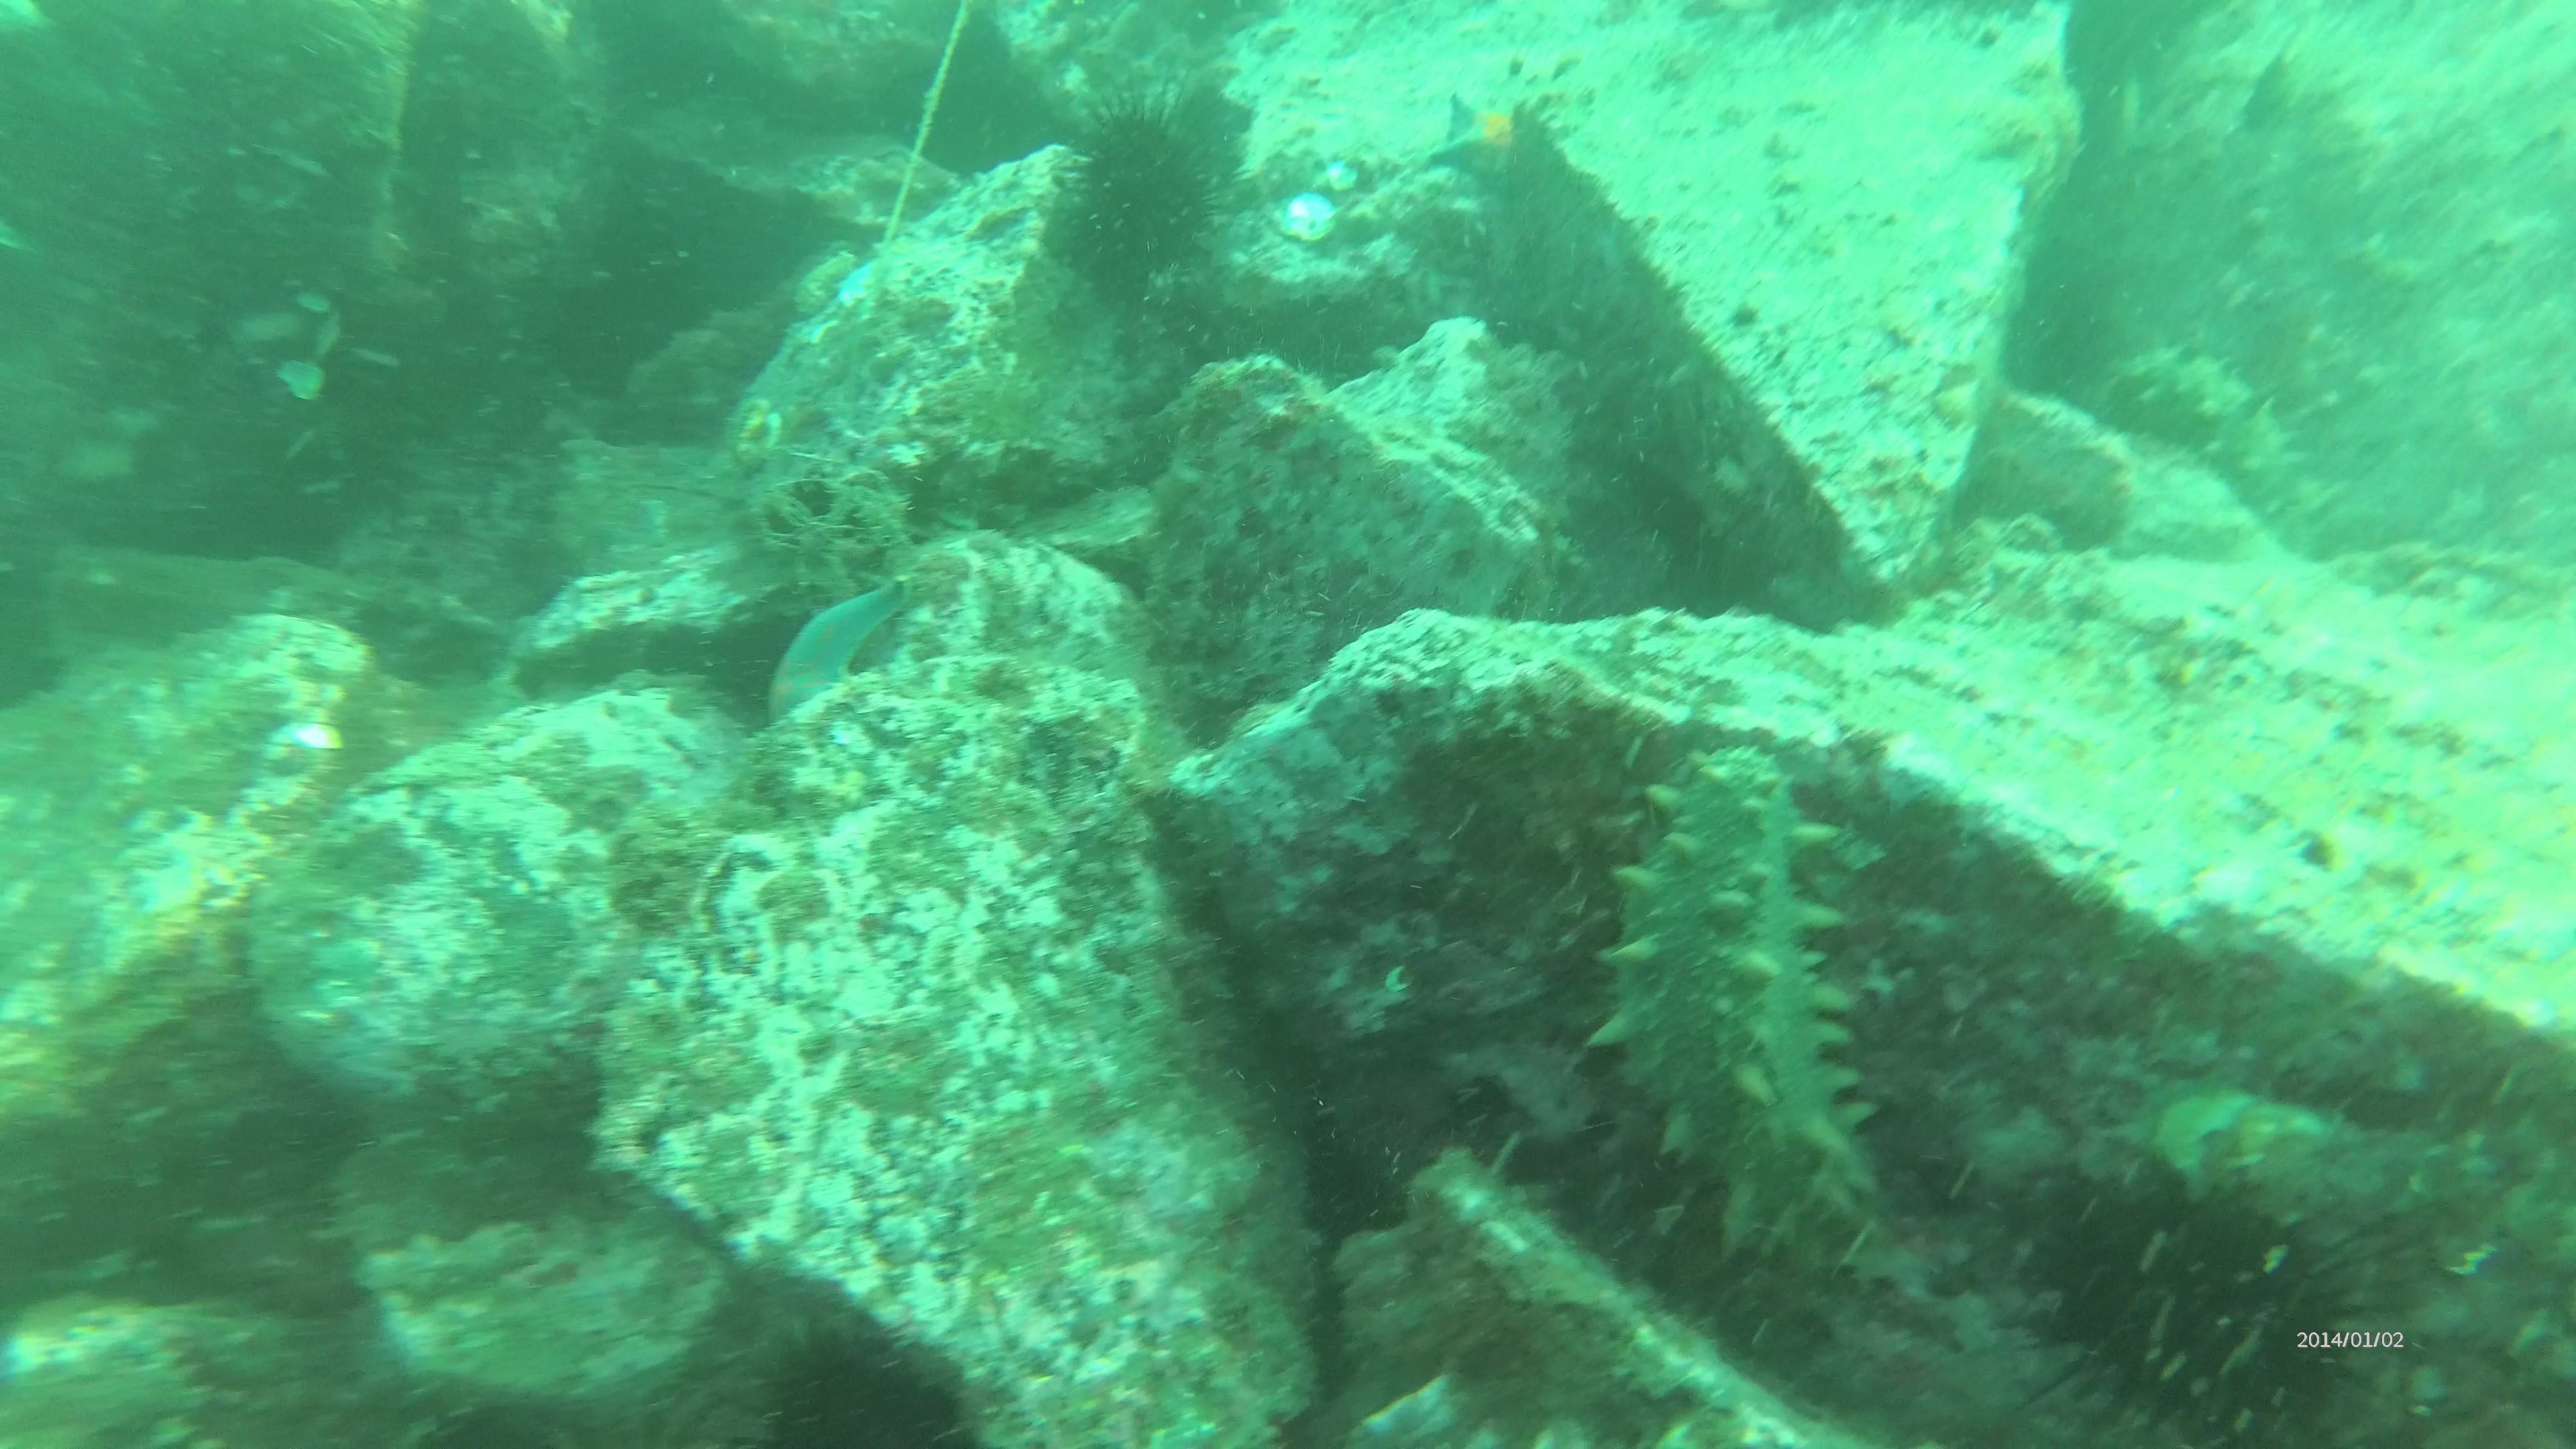echinus: (2038, 1162, 2374, 1449), (1060, 88, 1238, 292), (748, 1316, 984, 1449)
holothurian: (1617, 731, 1875, 1214), (2105, 331, 2307, 502)
starfish: (747, 566, 913, 722), (1412, 88, 1523, 180)
